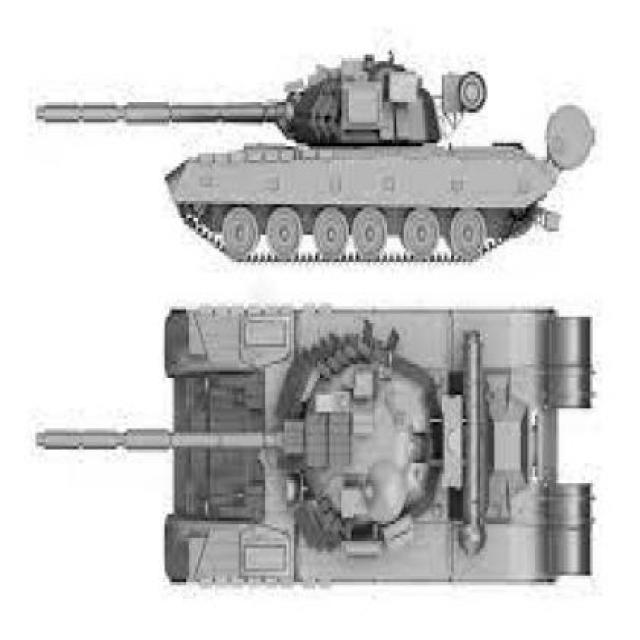tank: (34, 299, 595, 592), (34, 48, 598, 266)
